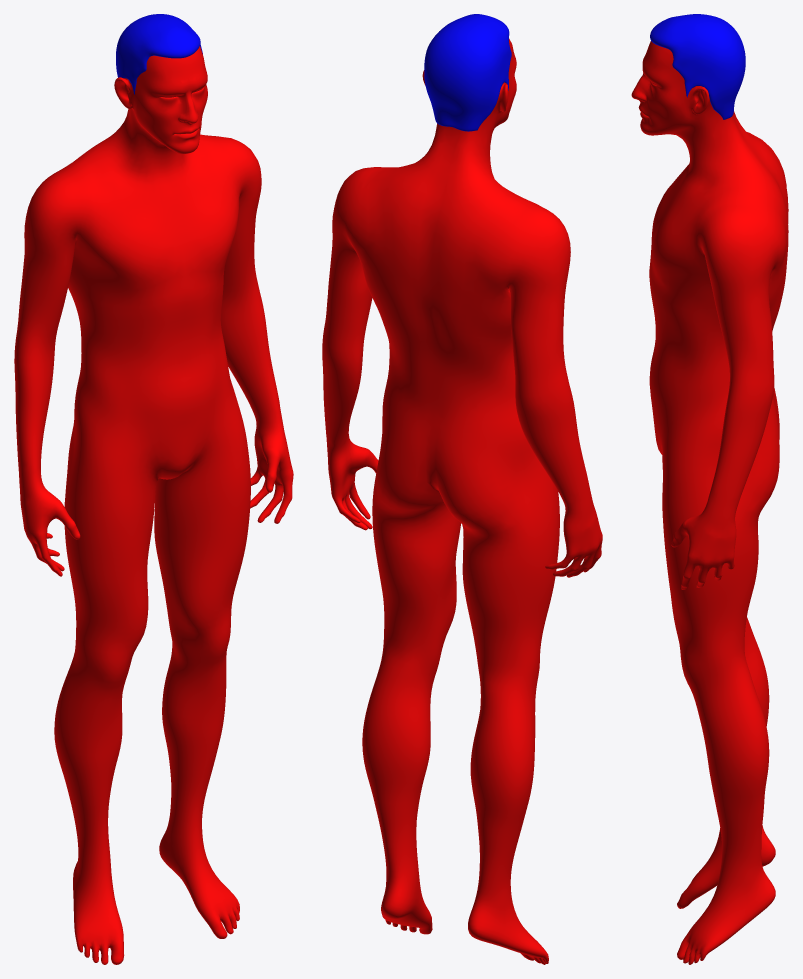
Rendered from SM_Patient.fbx.
The picture shows the model from 3 angles, left to right: view 1: azimuth 30°, elevation 25°; view 2: azimuth 150°, elevation 25°; view 3: azimuth 270°, elevation 25°; orthographic projection.
Parts seen in each view (by area): view 1: SM_Patient; view 2: SM_Patient; view 3: SM_Patient.
Boxes of the visible parts, x1,y1,x2,y2 form: SM_Patient: [14, 14, 293, 964]; SM_Patient: [322, 14, 602, 964]; SM_Patient: [631, 14, 788, 964].
Size of the model in its own units: 274 by 929 by 144.
